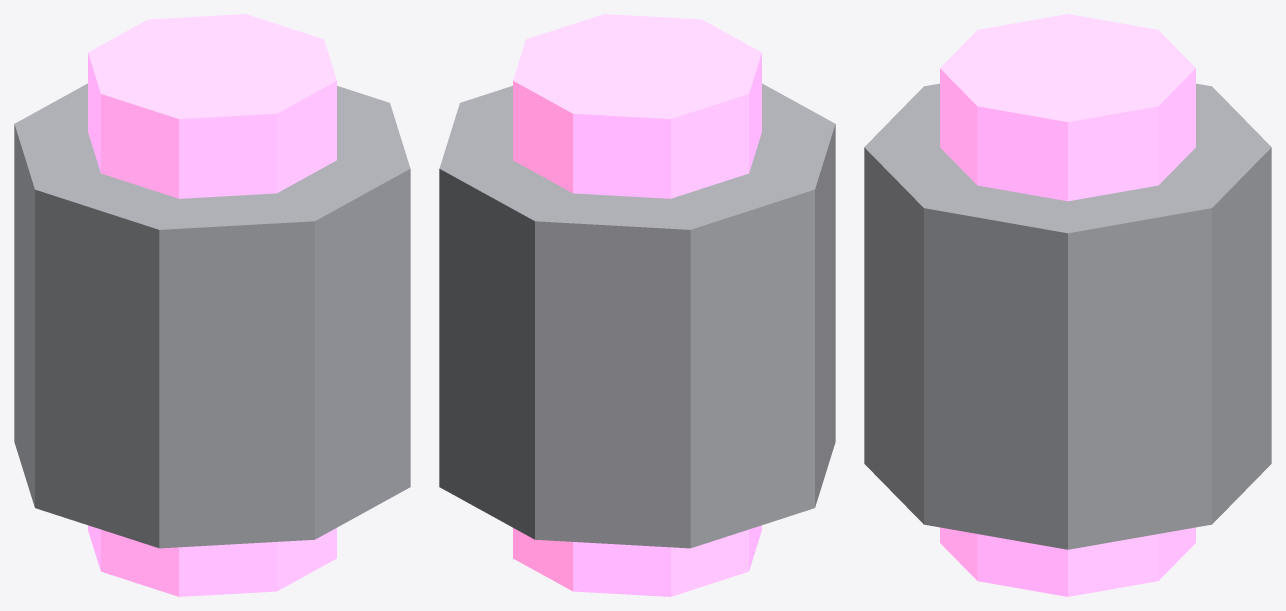
File: item_F2_PlasmaGrenade.glb
The picture shows the model from 3 angles, left to right: view 1: azimuth 30°, elevation 25°; view 2: azimuth 150°, elevation 25°; view 3: azimuth 270°, elevation 25°; orthographic projection.
Parts seen in each view (by area): view 1: Item_F2_PlasmaGrenade; view 2: Item_F2_PlasmaGrenade; view 3: Item_F2_PlasmaGrenade.
Boxes of the visible parts, left/top/right/bottom form: Item_F2_PlasmaGrenade: left=14, top=14, right=410, bottom=596; Item_F2_PlasmaGrenade: left=439, top=14, right=835, bottom=596; Item_F2_PlasmaGrenade: left=864, top=14, right=1271, bottom=596.
Bounding box in the file's own units: 0.07 × 0.09 × 0.07.
